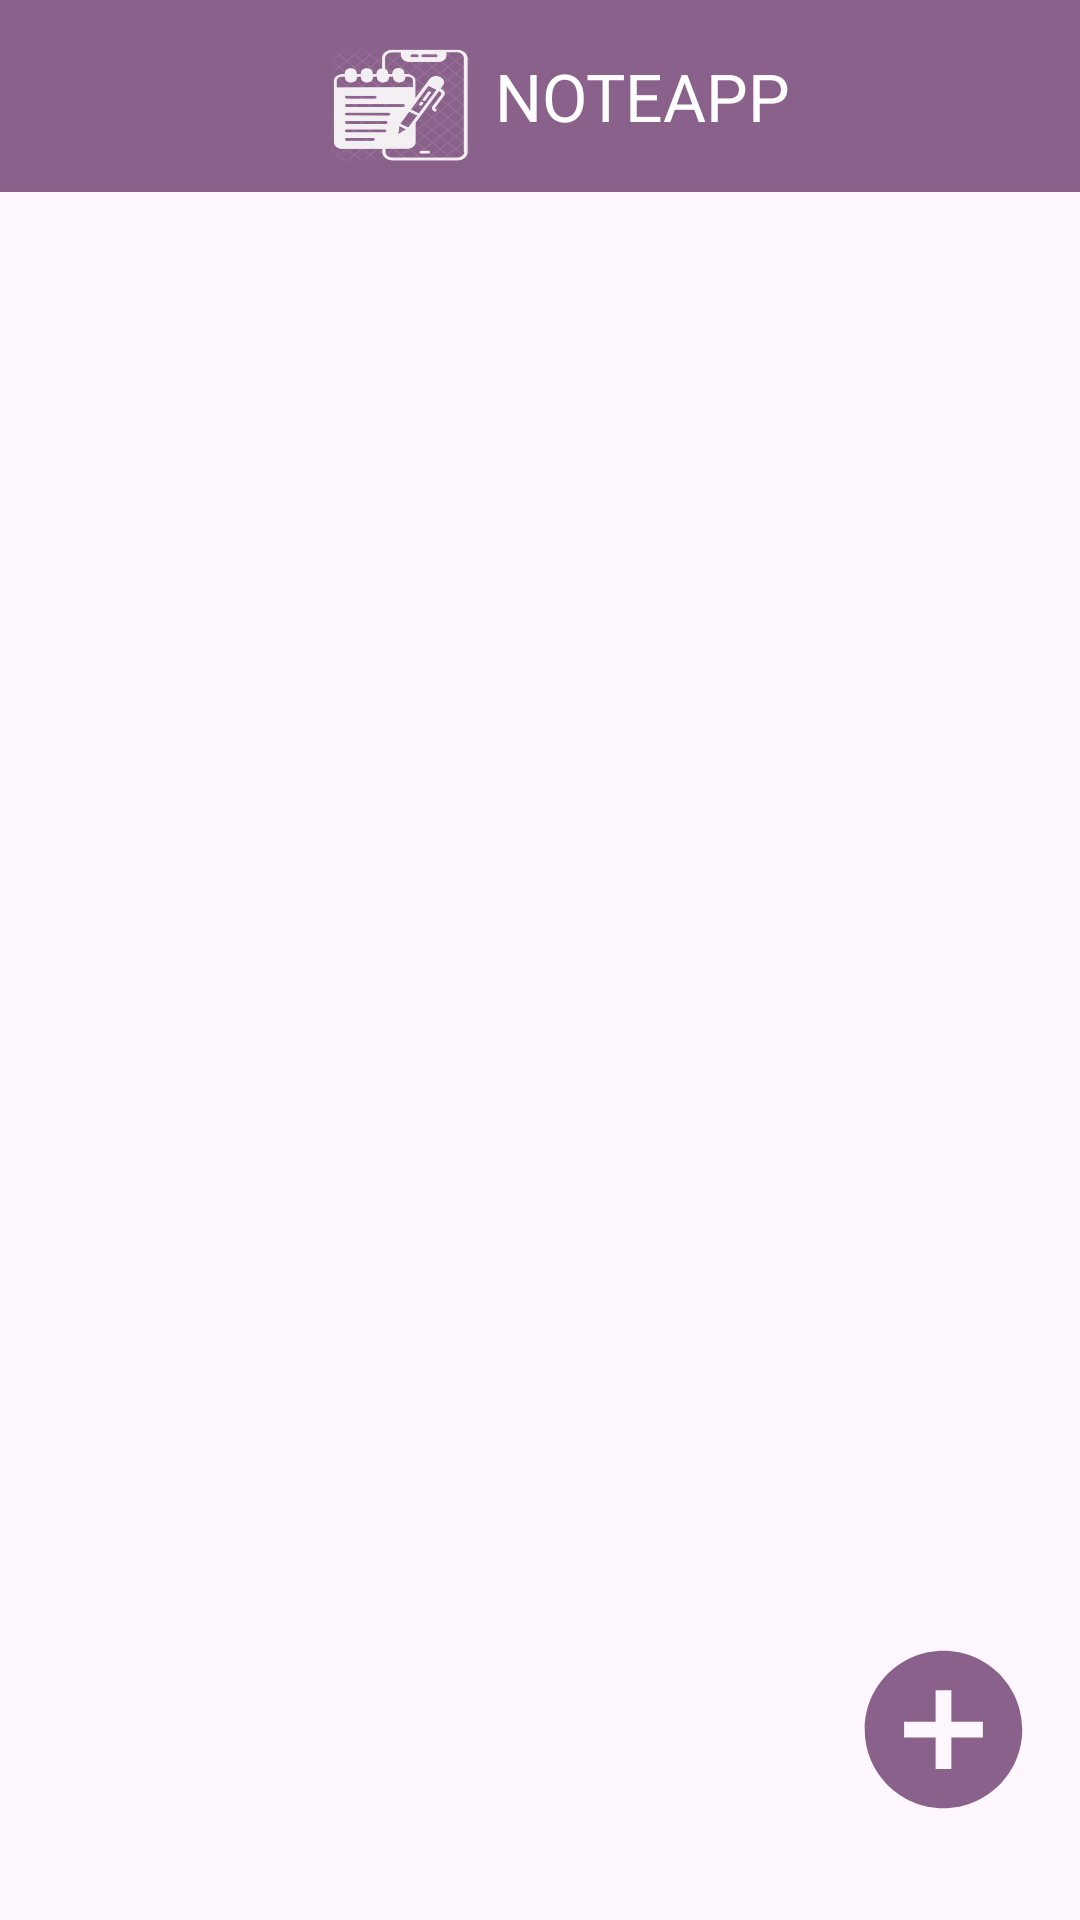

Where icons sit on this 1080px×1920px app screen, as (left=x1, top=y1, right=x2, bottom=y2):
add circle: (left=864, top=1650, right=1023, bottom=1809)
